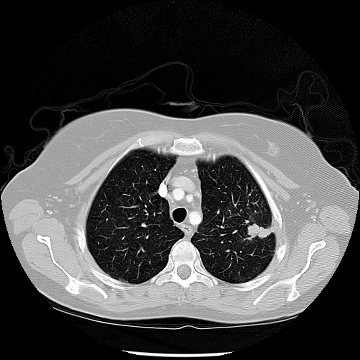nodule: (250, 221, 270, 241)
